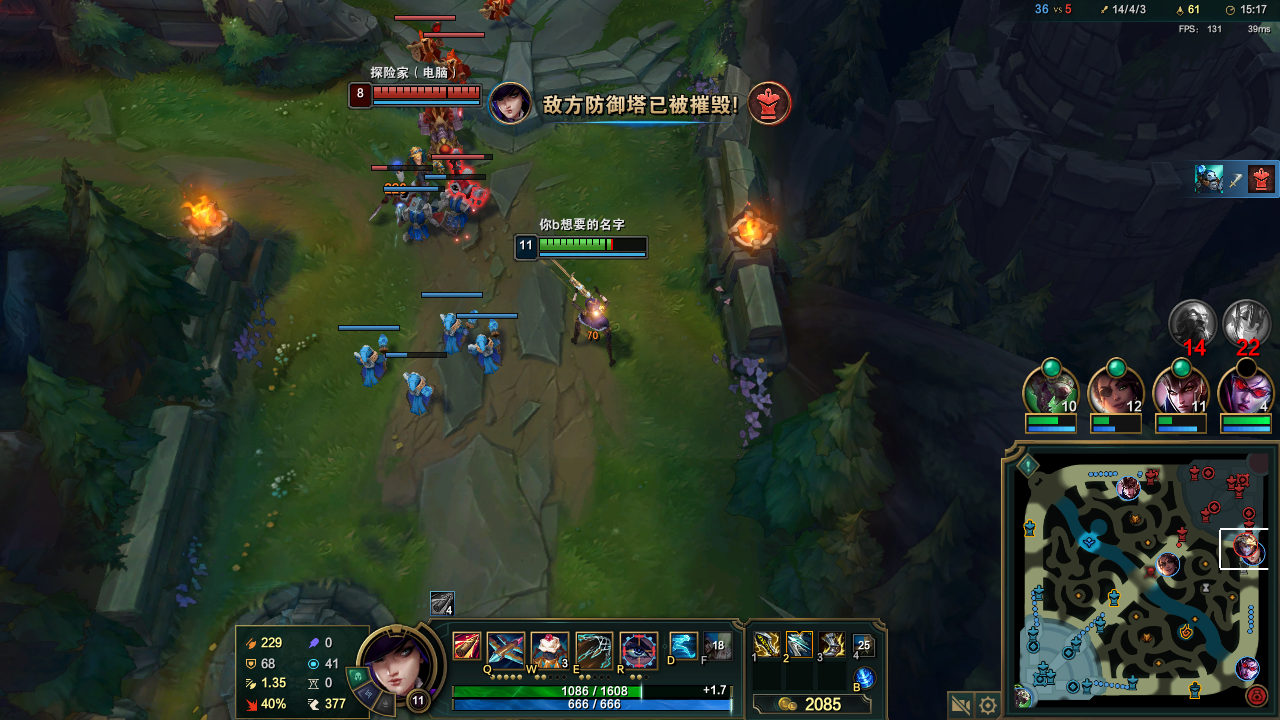DFXB: (423, 111, 467, 151), (443, 166, 491, 201), (405, 29, 443, 58), (440, 56, 470, 81), (487, 2, 514, 23), (383, 175, 406, 196)
DFYX: (372, 87, 476, 99)
WFXB: (399, 366, 433, 409), (399, 199, 432, 241), (437, 305, 469, 347), (434, 192, 470, 228), (472, 334, 505, 371), (353, 346, 386, 382)
